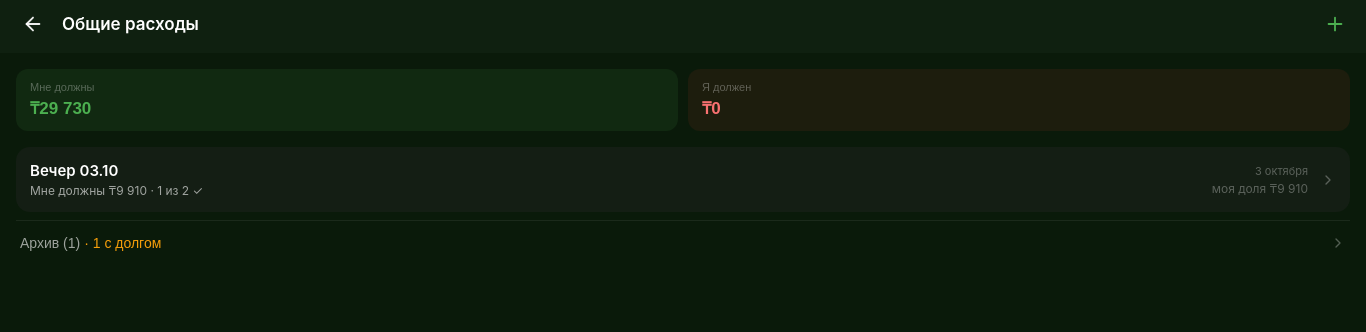
it: §12.1: архив свёрнут внизу списка, группы с долгом отмечены
Check: the text "Вечер 01.09" is not shown
Check: the text "· 1 с долгом" is shown, box left=80, top=235, right=161, bottom=251
Click the button "Архив (1) · 1 с долгом" at (44, 243), box left=16, top=220, right=1350, bottom=265
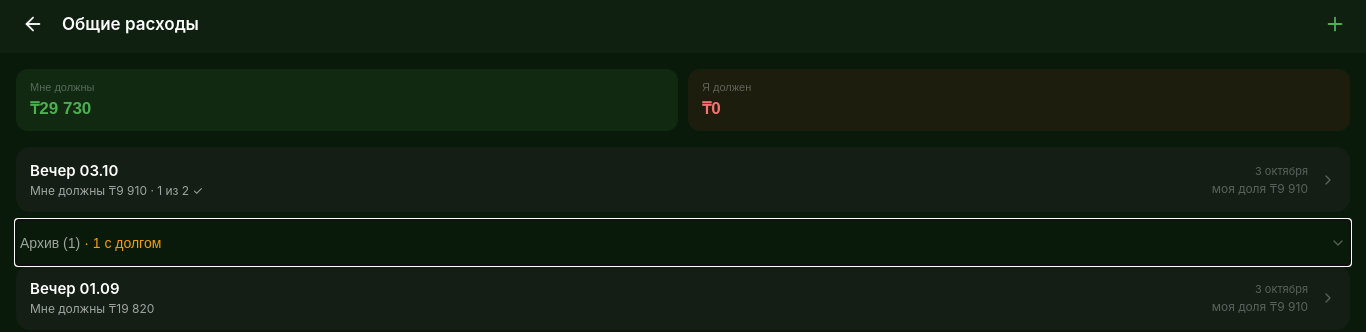
Check: the text "Вечер 01.09" is shown, box left=30, top=279, right=120, bottom=298
